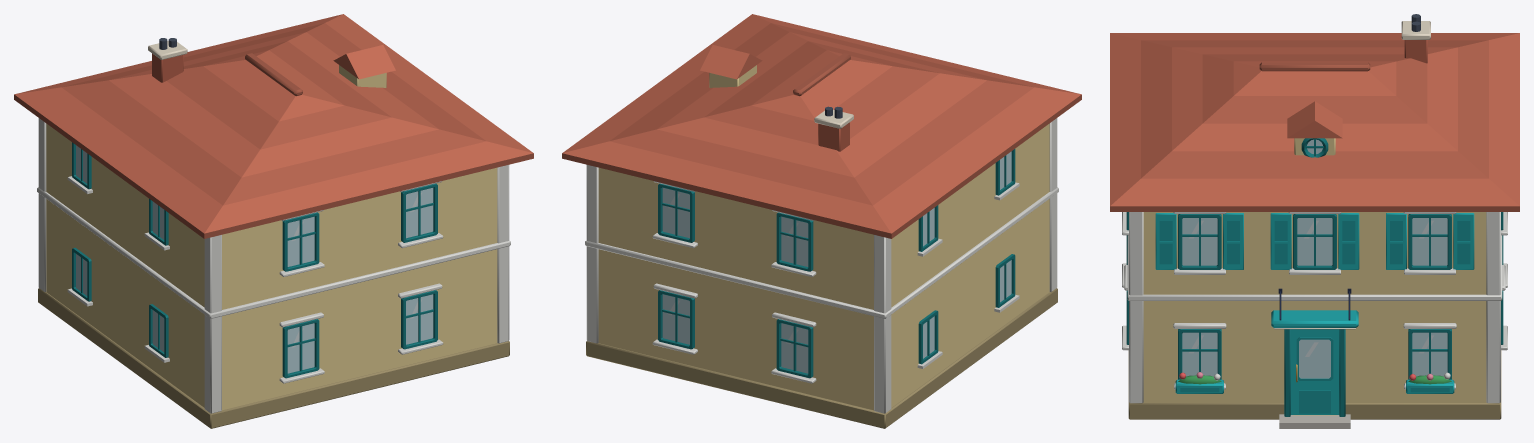
The model's file is house_side_a.glb.
3 views of the same model, side by side, from view 1: azimuth 30°, elevation 25°; view 2: azimuth 150°, elevation 25°; view 3: azimuth 270°, elevation 25° (orthographic). The views are drawn at different scales.
Visible parts, largest first — view 1: HouseSideA; view 2: HouseSideA; view 3: HouseSideA.
Part boxes in pixels (box(x1,y1,x2,y2)): HouseSideA: box(14, 14, 533, 428); HouseSideA: box(562, 14, 1081, 428); HouseSideA: box(1110, 14, 1519, 428).
Bounding box in the file's own units: 9.25 × 7 × 8.9.
